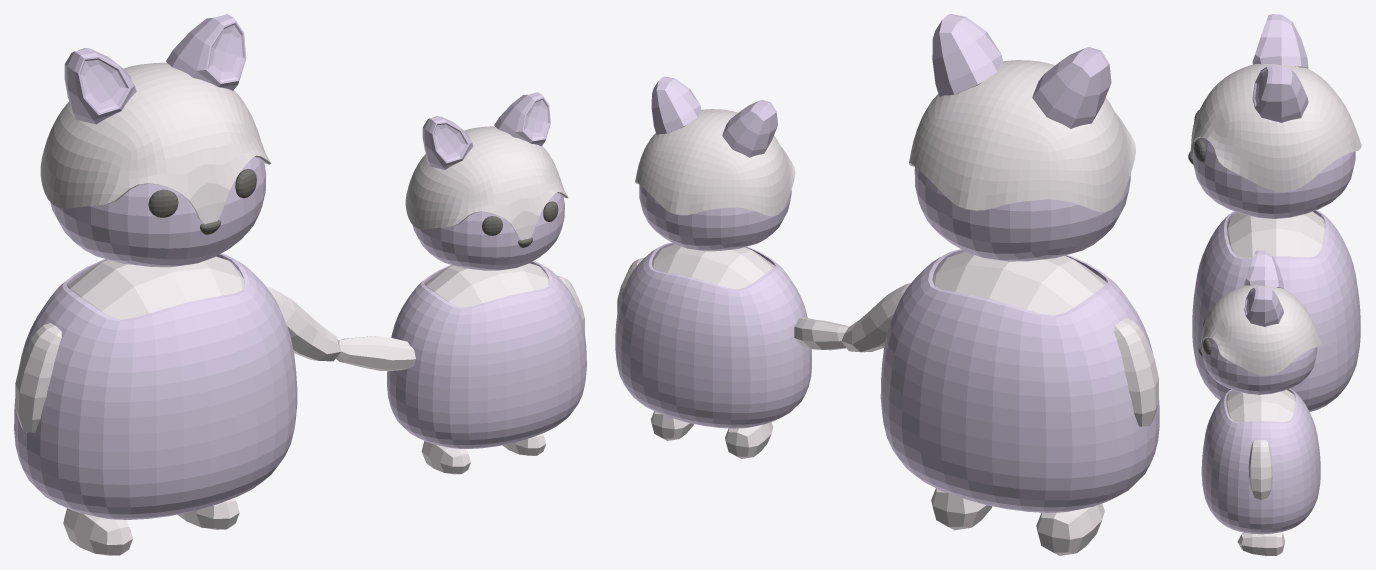
Rendered from momma_2.fbx.
3 renders of one model, left to right at view 1: azimuth 30°, elevation 25°; view 2: azimuth 150°, elevation 25°; view 3: azimuth 270°, elevation 25°, orthographic. The views are drawn at different scales.
Parts seen in each view (by area): view 1: Cube.006, Cube.007, Cube.010, Cube.008; view 2: Cube.006, Cube.007, Cube.010; view 3: Cube.006, Cube.007, Cube.010, Cube.008.
Part boxes in pixels (bbox=[...]): Cube.006: bbox=[14, 253, 586, 555]; Cube.007: bbox=[40, 14, 270, 267]; Cube.010: bbox=[405, 92, 568, 270]; Cube.008: bbox=[148, 169, 256, 217]; Cube.006: bbox=[615, 242, 1159, 555]; Cube.007: bbox=[909, 14, 1135, 261]; Cube.010: bbox=[635, 76, 795, 251]; Cube.006: bbox=[1192, 210, 1360, 555]; Cube.007: bbox=[1188, 14, 1361, 218]; Cube.010: bbox=[1199, 250, 1321, 394]; Cube.008: bbox=[1194, 110, 1206, 161].
Bounding box in the file's own units: 2033 × 726 × 1772.
